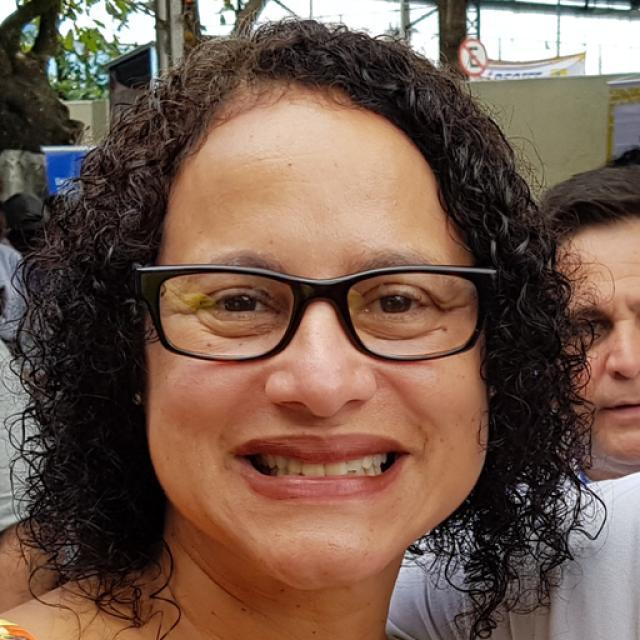disgust: (145, 76, 485, 588)
